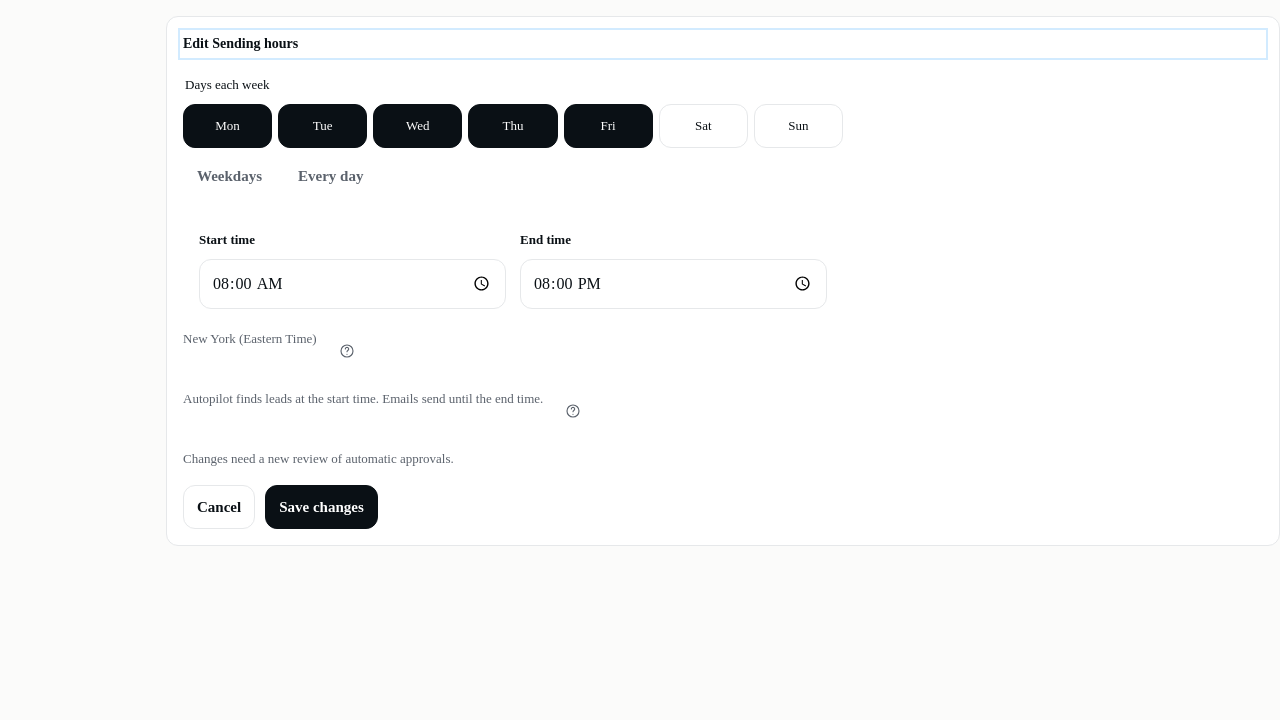
Scenario: at least one day is required before saving
This screenshot has width=1280, height=720.
Click the checkbox named "Monday".
click(228, 126)  # box [183,104,272,148]
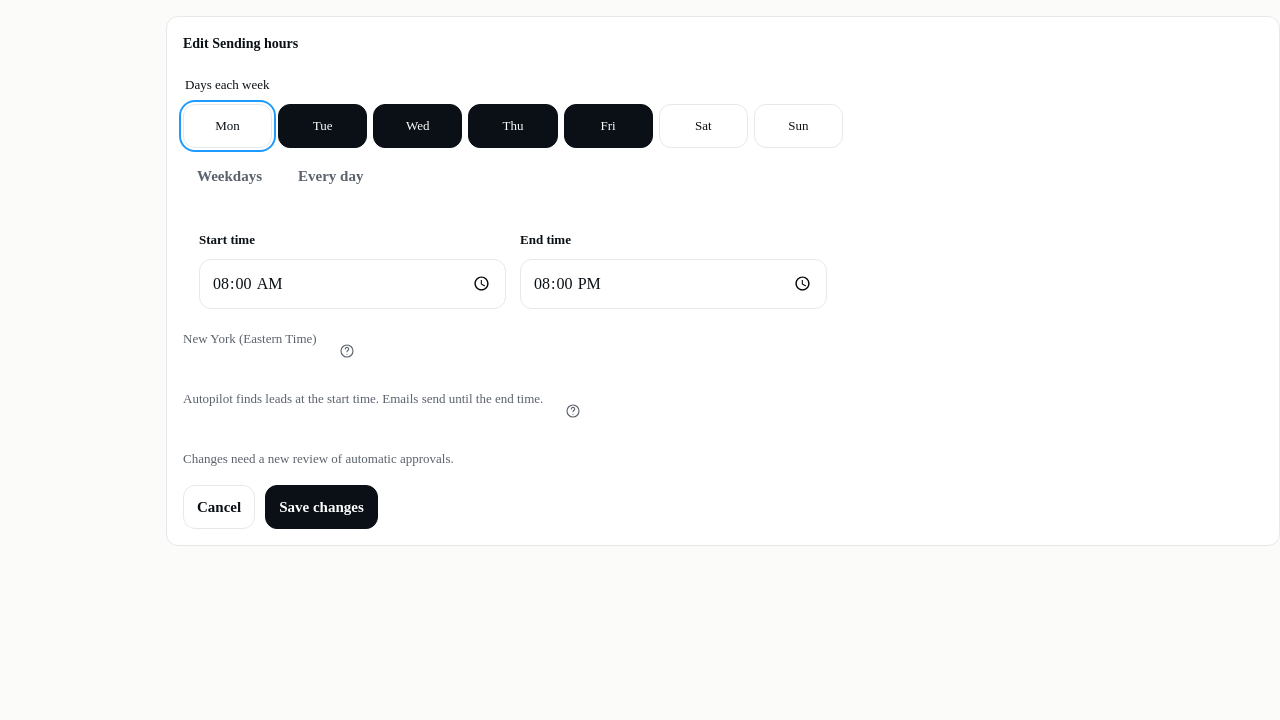
Click the checkbox named "Tuesday".
click(323, 126)  # box [278,104,367,148]
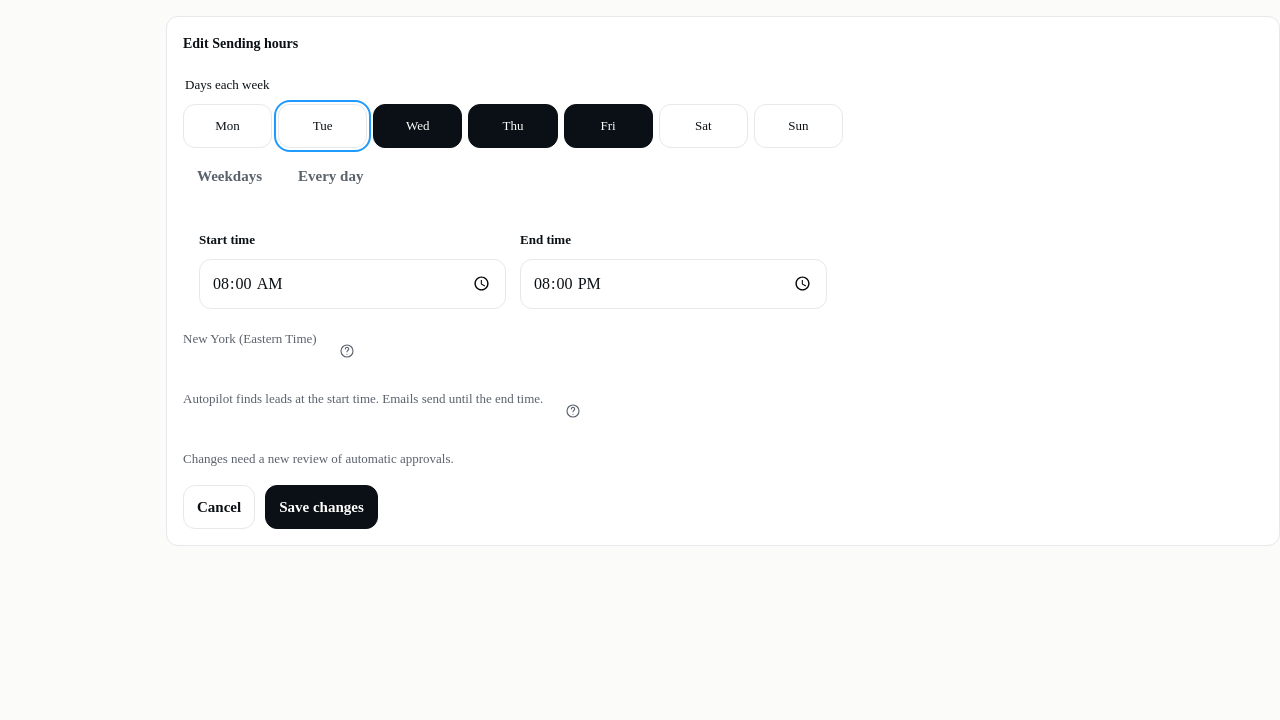
Click the checkbox named "Wednesday".
click(418, 126)  # box [373,104,462,148]
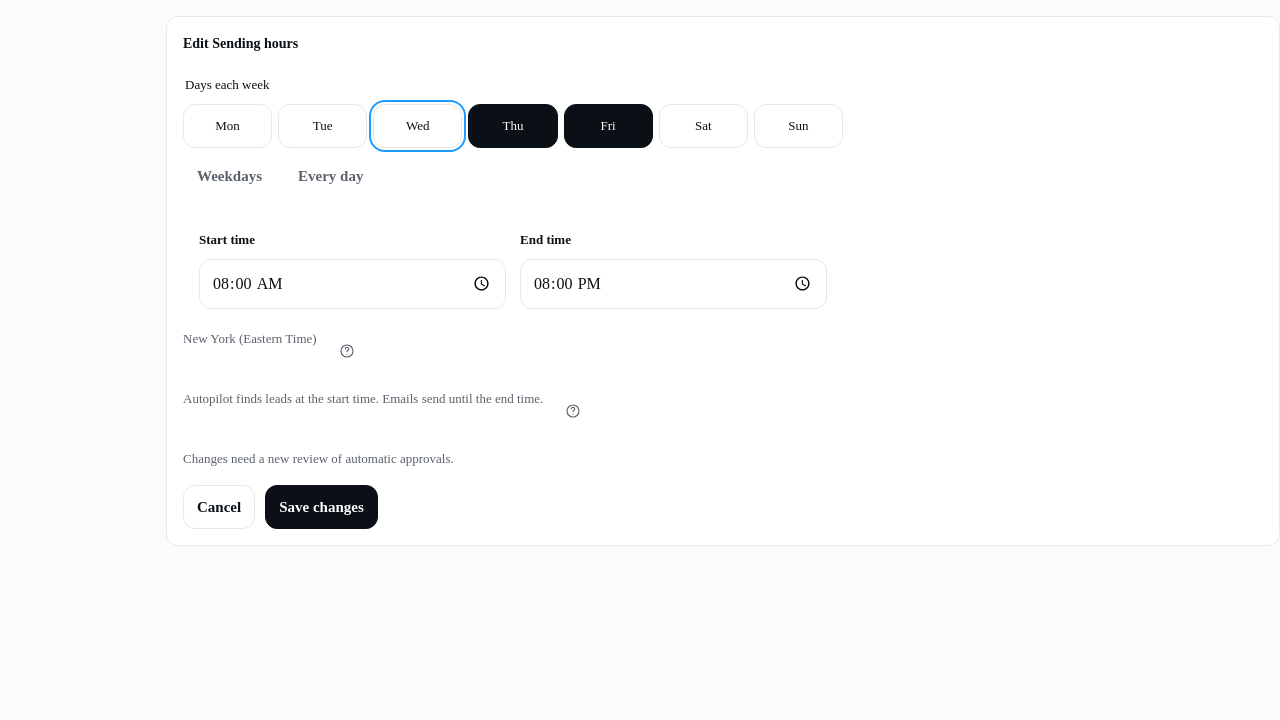
Click the checkbox named "Thursday".
click(513, 126)  # box [468,104,558,148]
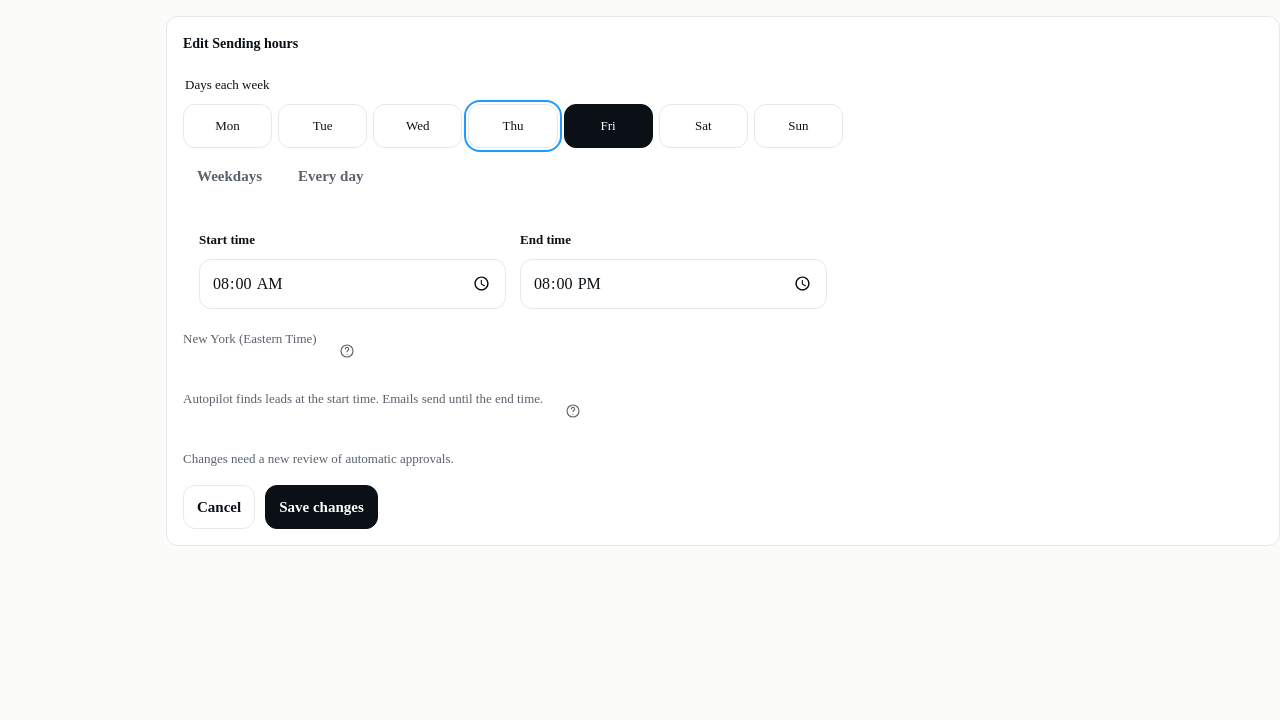
Click the checkbox named "Friday".
click(608, 126)  # box [564,104,653,148]
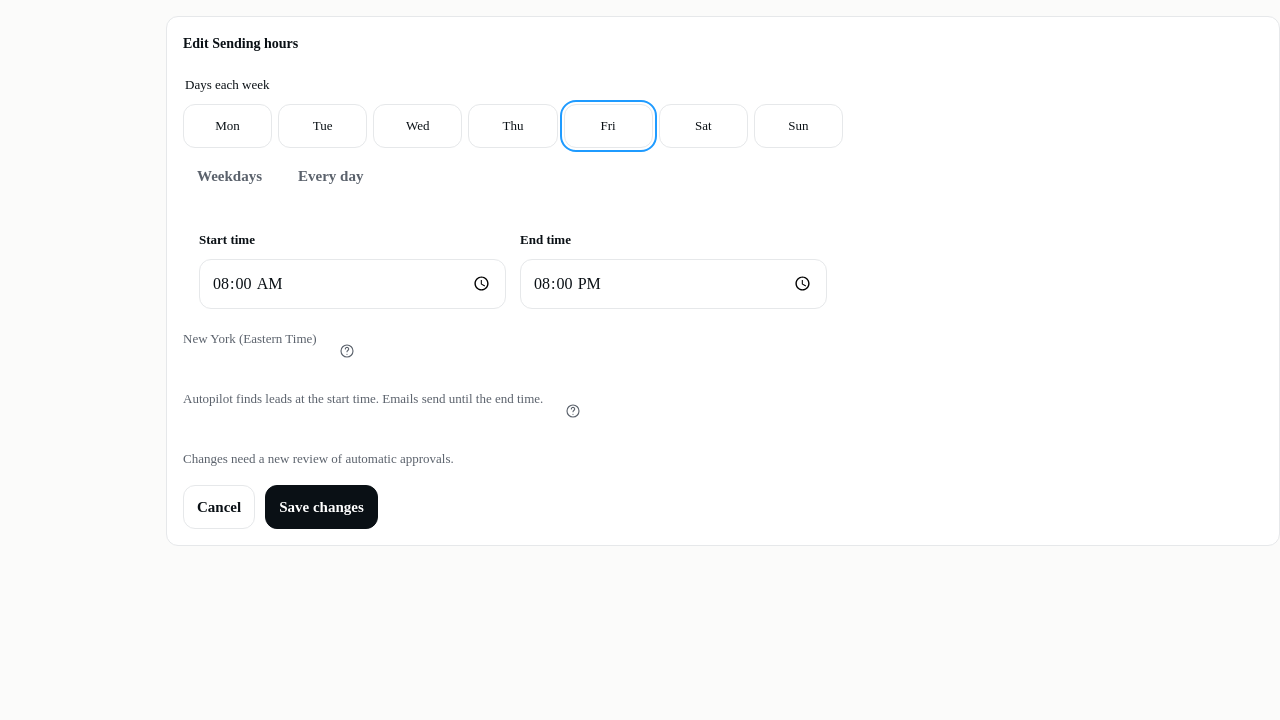
Click the button "Save changes".
click(322, 507)  # box [265,485,378,529]
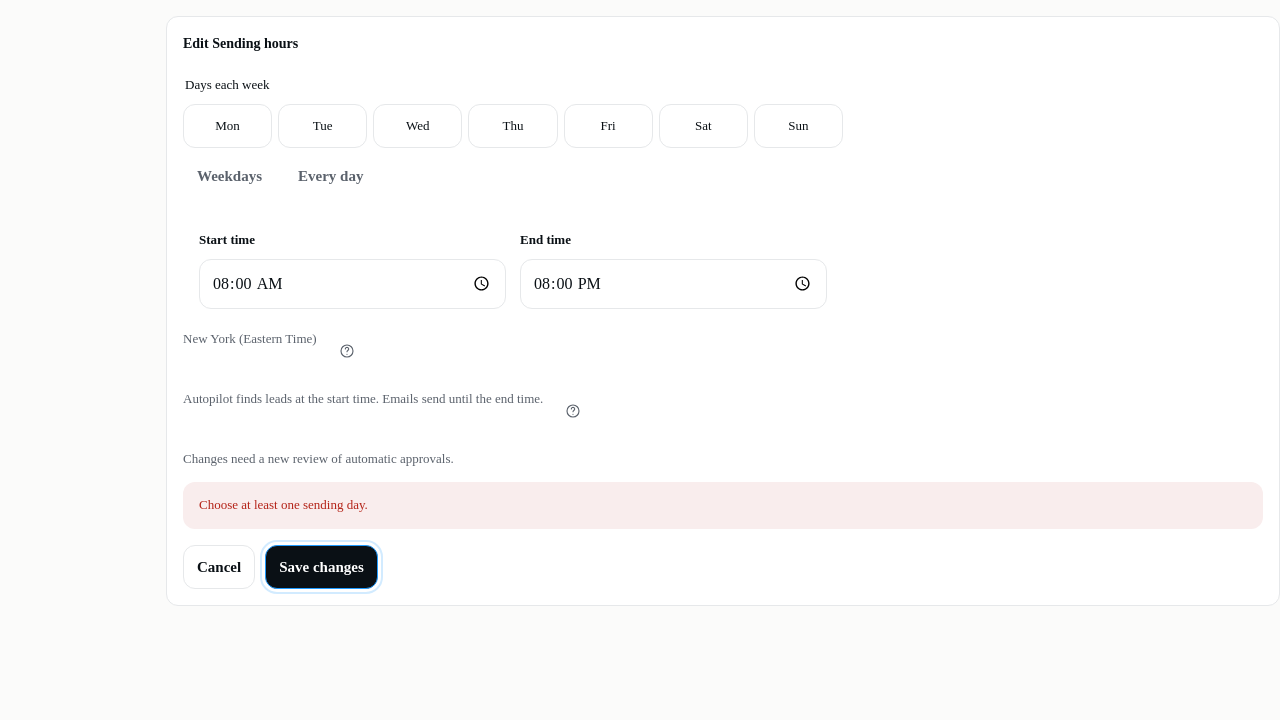
Check: the message shows "Choose at least one sending day", box [199,497,368,512]
